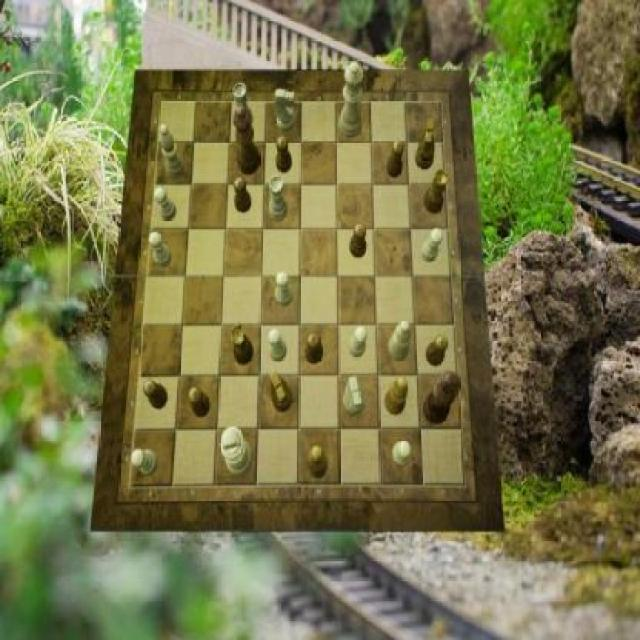bishop: (384, 377, 408, 415), (308, 444, 328, 478)
black-bishop: (423, 370, 460, 424)
black-king: (416, 120, 436, 171), (271, 372, 294, 412)
black-knight: (143, 380, 168, 411), (426, 336, 449, 366), (386, 140, 404, 178), (189, 388, 210, 418), (350, 223, 368, 258), (234, 177, 251, 213), (276, 135, 292, 173), (305, 332, 322, 365)
black-pawn: (234, 106, 261, 176)
black-queen: (425, 169, 449, 215), (231, 324, 254, 364)
black-rook: (160, 125, 185, 179), (388, 322, 410, 362)
white-bishop: (220, 428, 253, 478)
white-king: (276, 89, 296, 133), (343, 377, 365, 415)
white-knight: (150, 232, 172, 268), (421, 228, 444, 262), (154, 188, 177, 222), (132, 450, 160, 476), (275, 272, 293, 308), (268, 329, 287, 363), (348, 326, 367, 359), (394, 440, 411, 468)
white-pawn: (340, 62, 365, 139)
white-queen: (234, 83, 254, 131), (270, 176, 288, 222)
